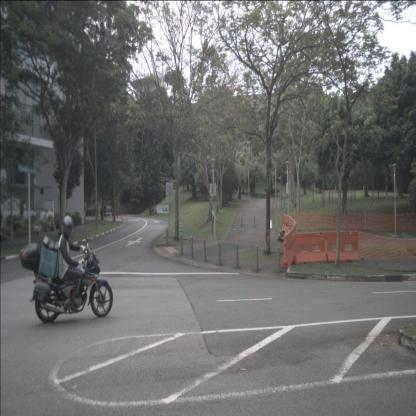human-pedestrian-adult: (96, 204, 99, 219)
movable_object-barrier: (325, 230, 360, 263), (292, 232, 327, 265), (280, 231, 294, 268), (281, 214, 295, 237)
movable_object-trafficcone: (121, 213, 123, 221), (122, 216, 124, 223)
vehicle-car: (100, 205, 112, 217)
vehicle-motorcycle: (20, 215, 113, 323)
